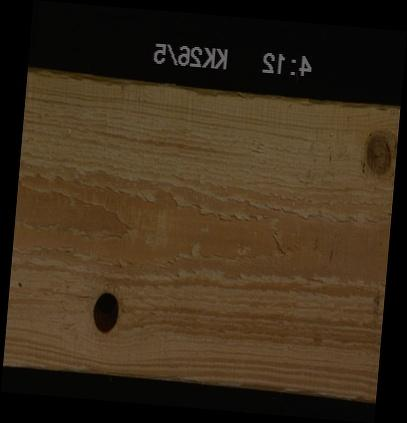sound_knot: (363, 127, 395, 179)
wave: (26, 78, 399, 110)
